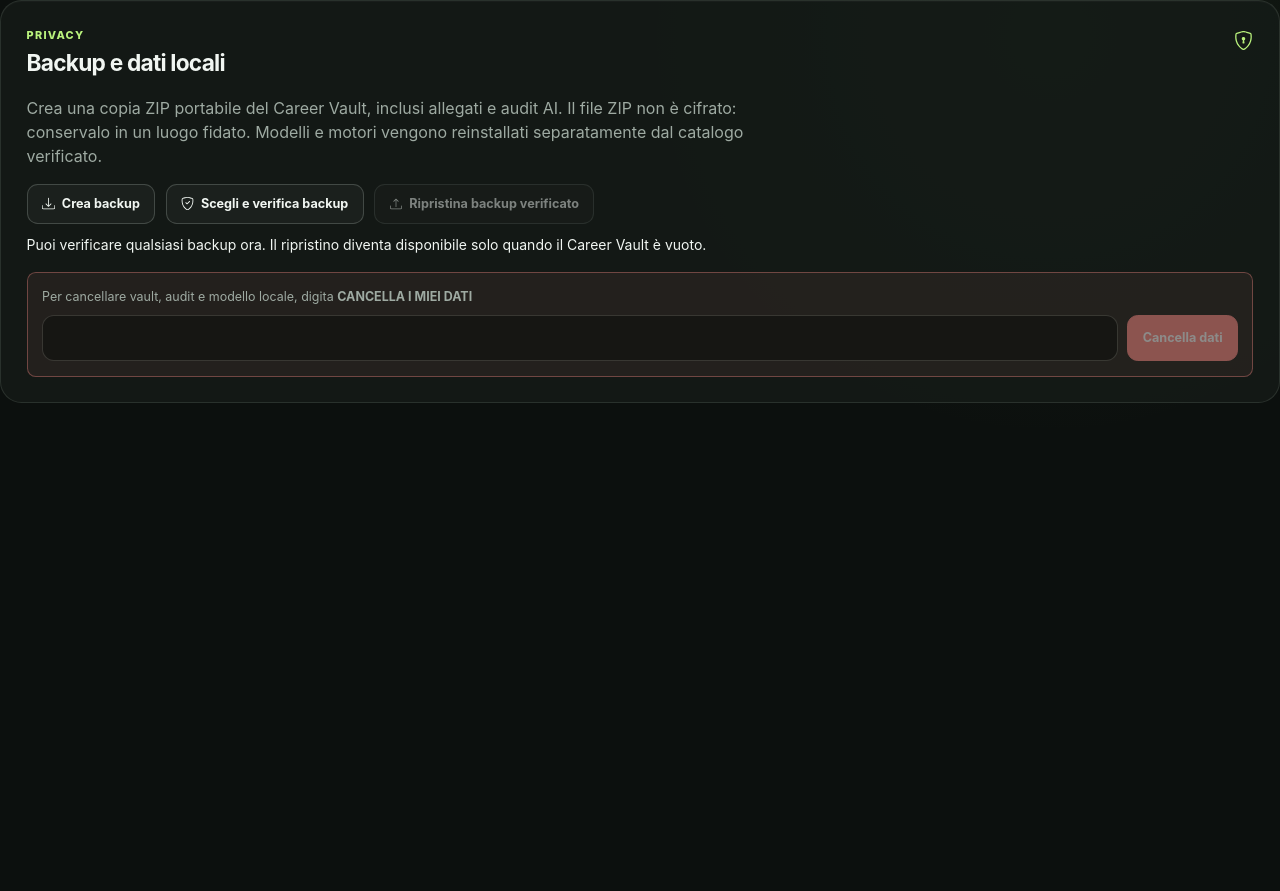
DataRecoveryPanel › enables a separate restore action only for a verified restorable backup
Check: the button "Ripristina backup verificato" is disabled, box [374, 184, 594, 224]
Click the button "Scegli e verifica backup" at (265, 204), box [166, 184, 364, 224]
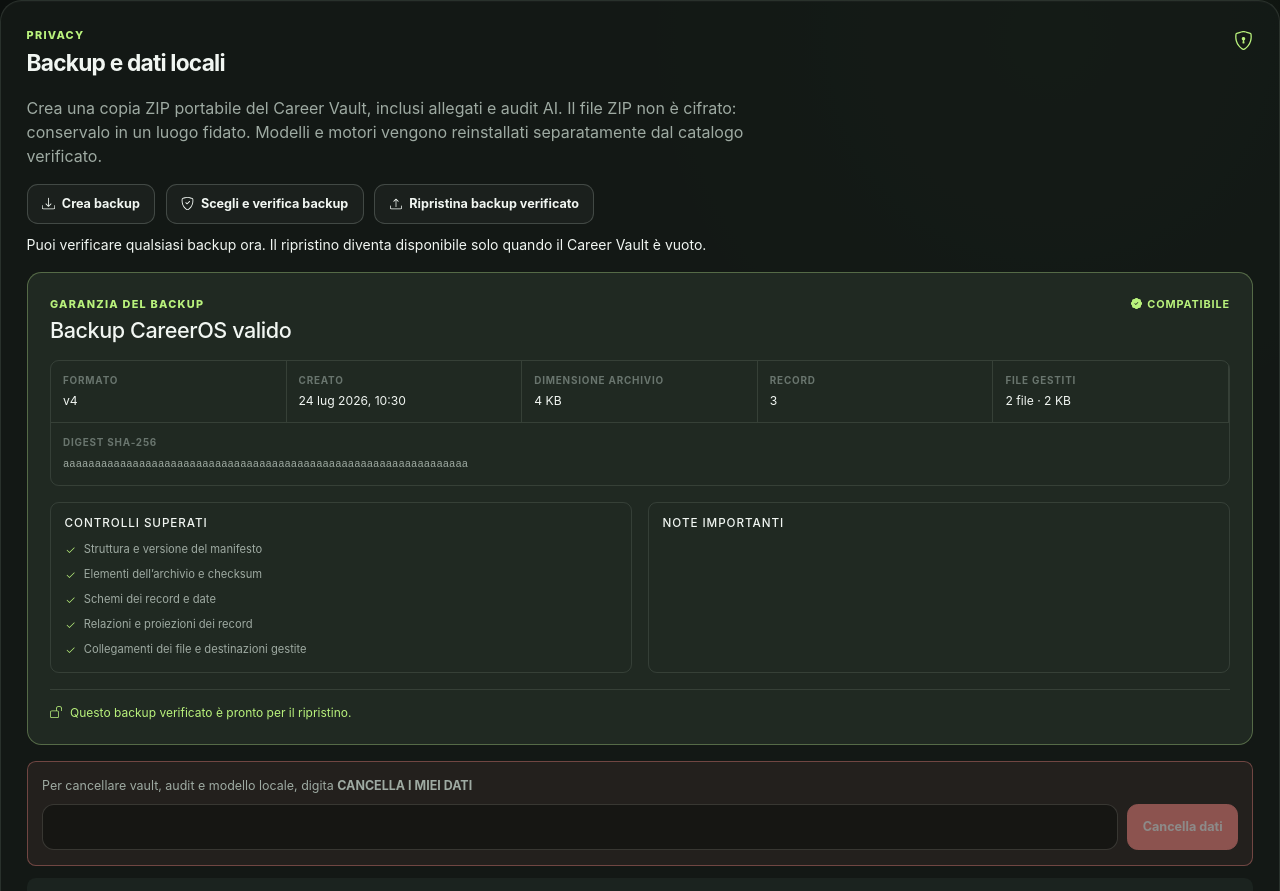
Check: the button "Ripristina backup verificato" is enabled, box [374, 184, 594, 224]
Check: the text "Questo backup verificato è pronto per il ripristino." is shown, box [50, 689, 1230, 722]
